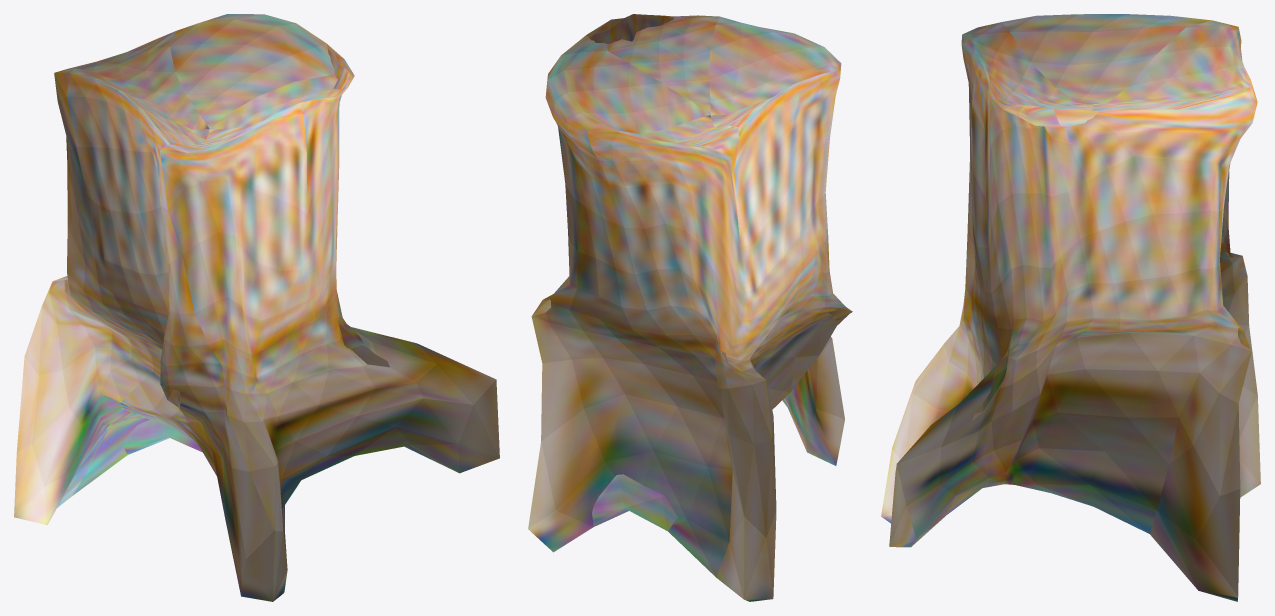
3 renders of one model, left to right at view 1: azimuth 30°, elevation 25°; view 2: azimuth 150°, elevation 25°; view 3: azimuth 270°, elevation 25°, orthographic. The views are drawn at different scales.
Parts seen in each view (by area): view 1: pMesh1; view 2: pMesh1; view 3: pMesh1.
Boxes of the visible parts, <box> form: pMesh1: <box>14,14,499,601</box>; pMesh1: <box>528,14,852,601</box>; pMesh1: <box>881,14,1260,601</box>.
Bounding box in the file's own units: 2.25 × 3.09 × 2.08.
Materials: 1 (1 with a texture image).
